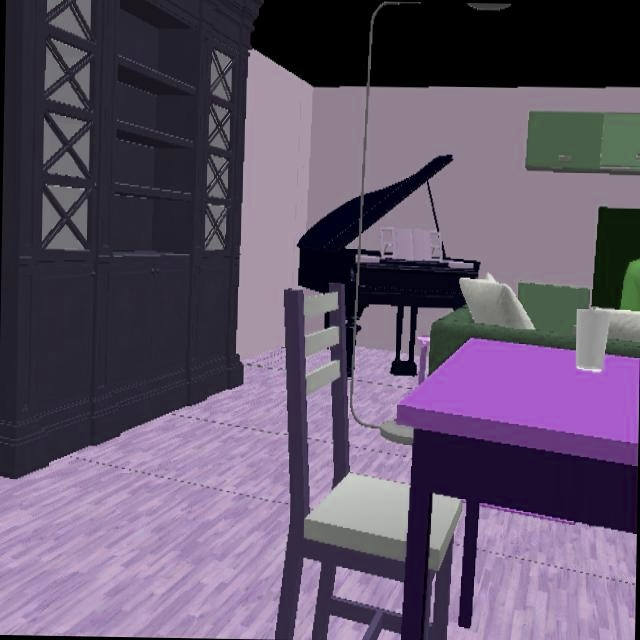cabinet: (525, 111, 640, 175)
chair: (275, 283, 410, 640)
monitor: (591, 207, 640, 310)
pillow: (459, 275, 535, 329)
sofa: (428, 306, 576, 375)
table: (395, 339, 639, 640)
